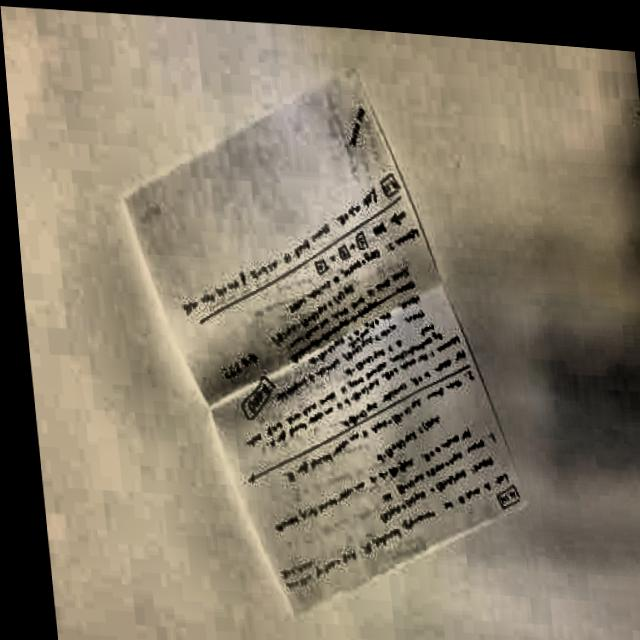Paper: (88, 45, 539, 621)
